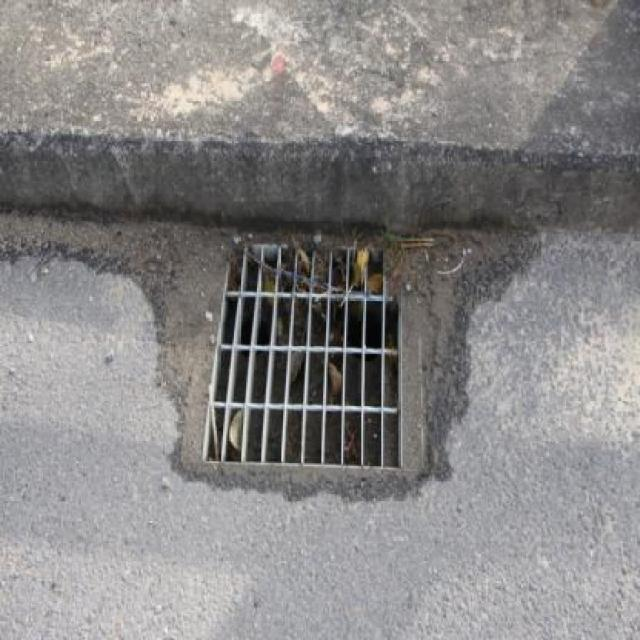Drain Hole: (212, 219, 446, 485)
